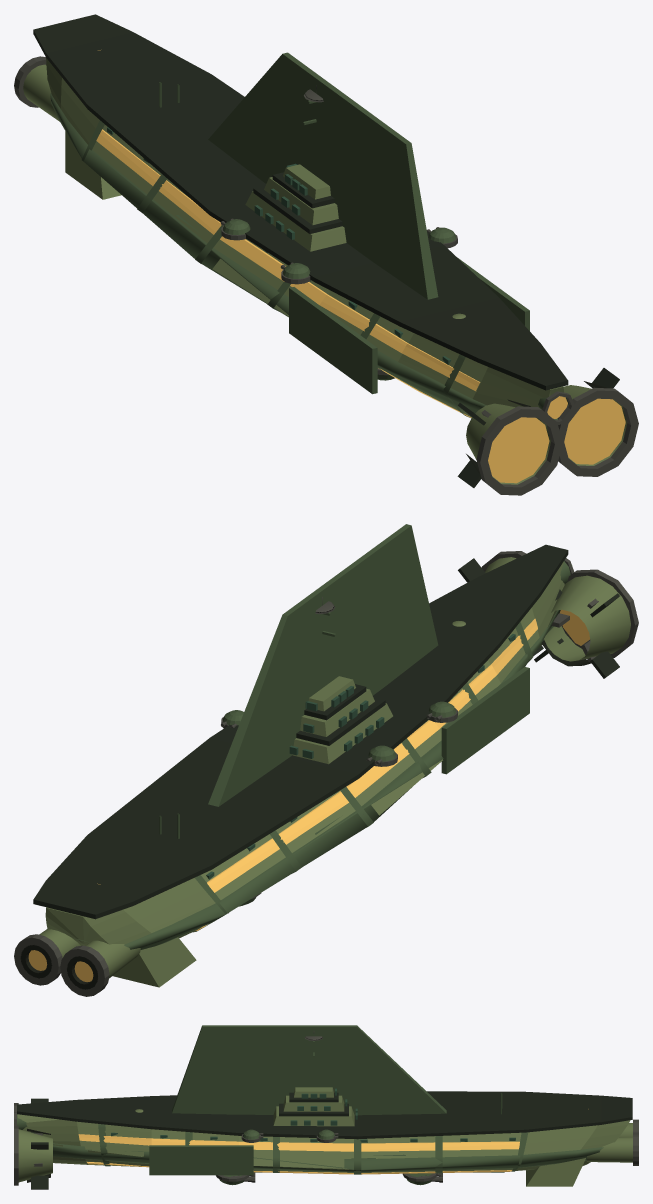
File: garmillas_kelkapia.obj
3 views of the same model, one above another, from view 1: azimuth 30°, elevation 25°; view 2: azimuth 150°, elevation 25°; view 3: azimuth 270°, elevation 25° (orthographic). The views are drawn at different scales.
Parts seen in each view (by area): view 1: hull, wing, engine_nozzle, radiator, bridge, superstructure, anti_air, wave_motion_gun; view 2: hull, wing, engine_nozzle, wave_motion_gun, radiator, bridge, superstructure, anti_air; view 3: hull, wing, radiator, engine_nozzle, bridge, wave_motion_gun, anti_air, superstructure.
Boxes of the visible parts, left/top/right/bottom form: hull: left=33, top=14, right=568, bottom=428; wing: left=176, top=52, right=438, bottom=299; engine_nozzle: left=457, top=368, right=638, bottom=495; radiator: left=289, top=257, right=529, bottom=394; bridge: left=253, top=85, right=465, bottom=318; superstructure: left=107, top=82, right=451, bottom=364; anti_air: left=220, top=218, right=457, bottom=380; wave_motion_gun: left=14, top=56, right=59, bottom=121; hull: left=33, top=544, right=568, bottom=987; wing: left=208, top=524, right=438, bottom=834; engine_nozzle: left=458, top=551, right=638, bottom=678; wave_motion_gun: left=14, top=929, right=140, bottom=996; radiator: left=441, top=667, right=529, bottom=774; bridge: left=289, top=597, right=465, bottom=758; superstructure: left=159, top=634, right=515, bottom=879; anti_air: left=221, top=701, right=457, bottom=913; hull: left=17, top=1091, right=632, bottom=1186; wing: left=172, top=1025, right=446, bottom=1155; radiator: left=149, top=1145, right=253, bottom=1175; engine_nozzle: left=14, top=1098, right=52, bottom=1189; bridge: left=135, top=1031, right=357, bottom=1125; wave_motion_gun: left=587, top=1119, right=638, bottom=1165; anti_air: left=216, top=1129, right=442, bottom=1185; superstructure: left=111, top=1093, right=515, bottom=1142.
Bounding box in the file's own units: 48 × 66.51 × 240.
